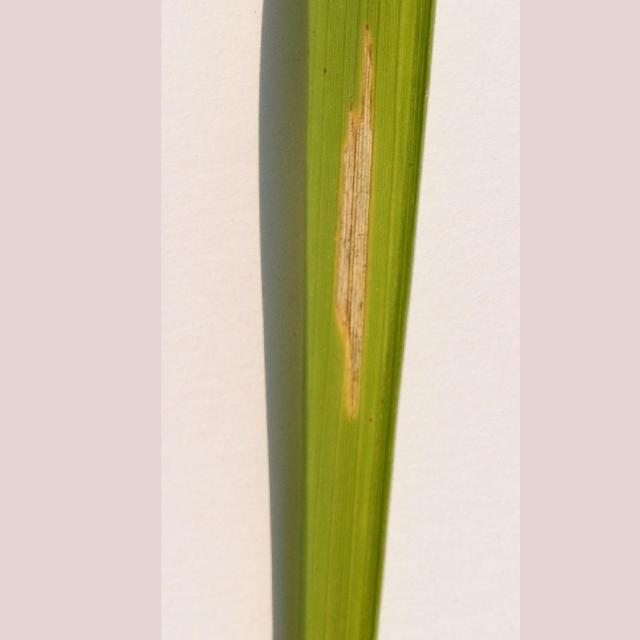leaf blight: (328, 19, 375, 430)
